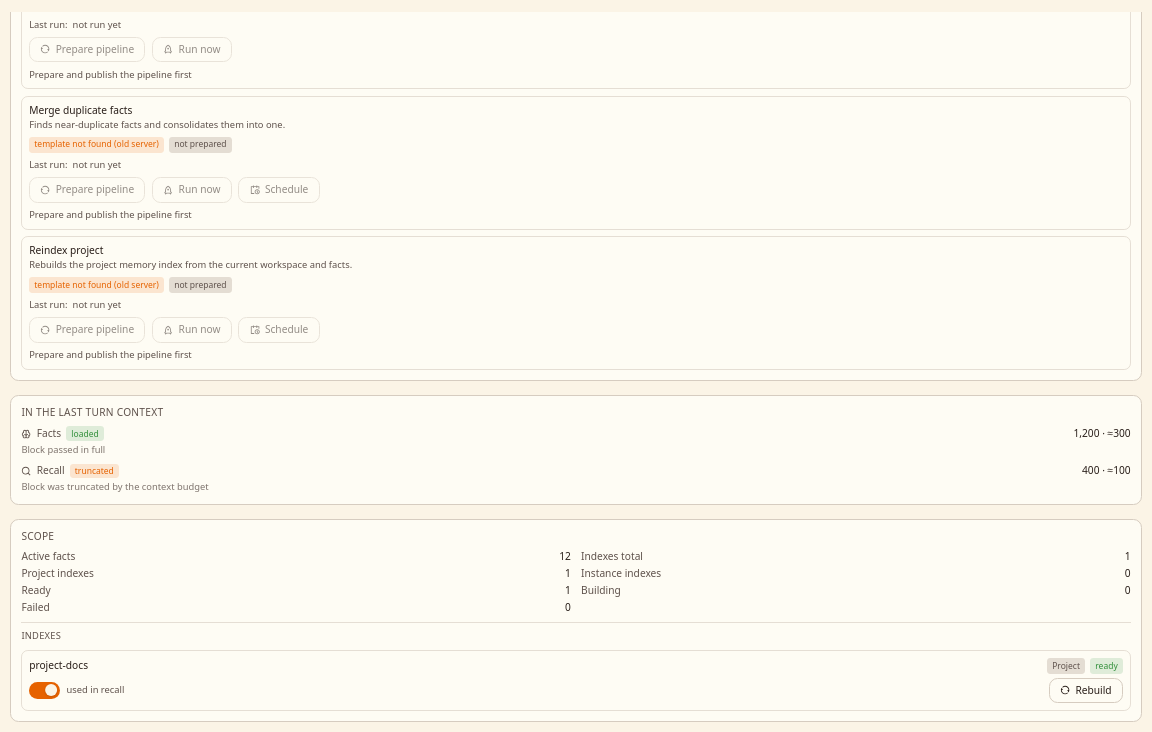
Test: MemoryTab — список индексов › 409 MEMORY_INDEX_NOT_TOGGLEABLE → понятное inline-сообщение
Step 1. Click the switch named "Use index \"project-docs\" in recall" → (44, 690), box [29,682,60,699]
(page scrolled)
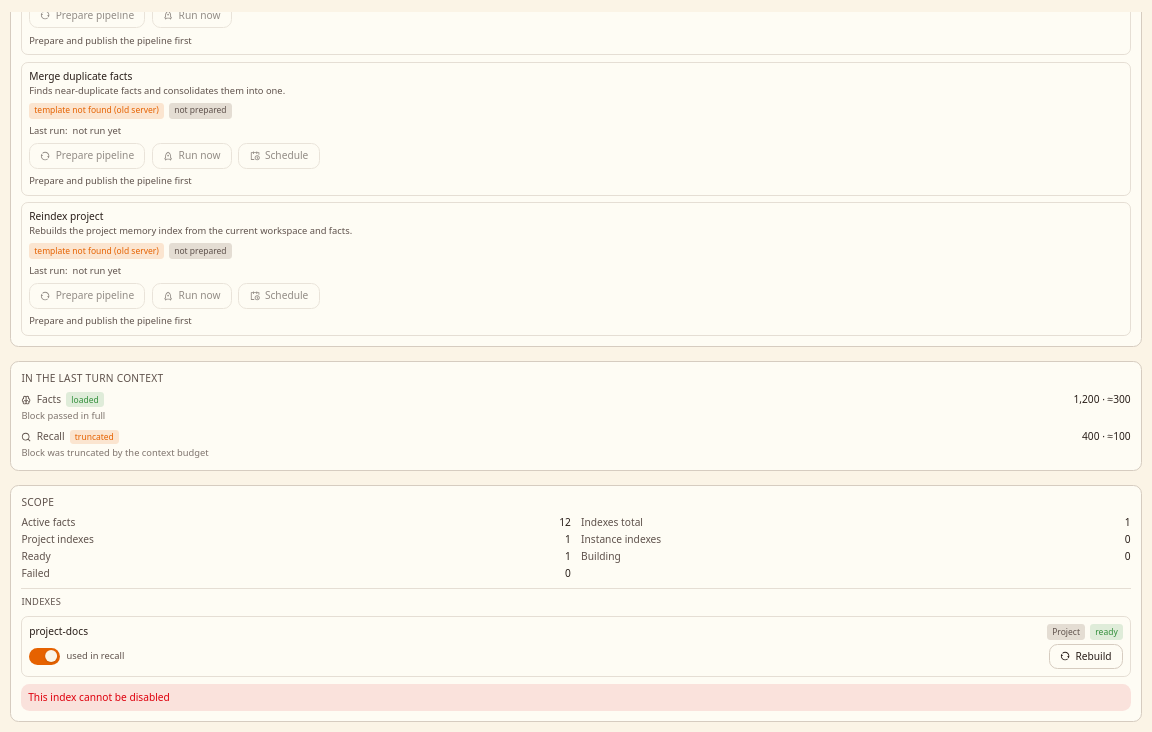
Check: the message "This index cannot be disabled" is shown, box [21,684,1131,711]
Check: the message with test id "memory-index-error" reads "This index cannot be disabled", box [28,690,170,704]
